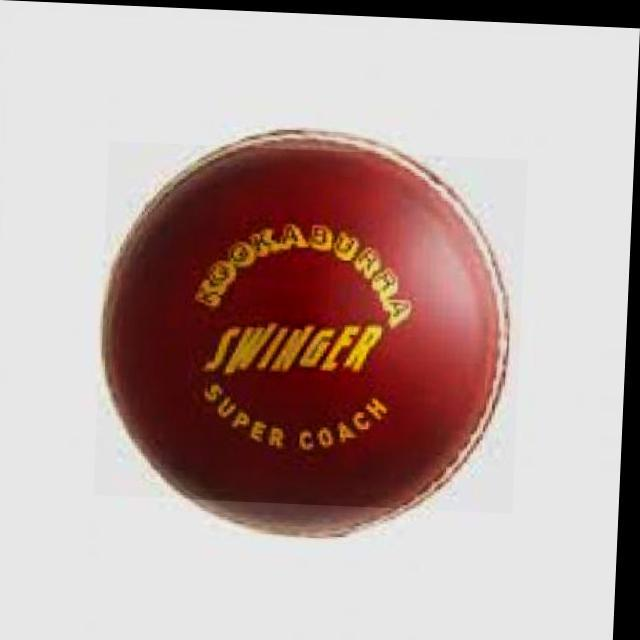-: (98, 140, 529, 509)
